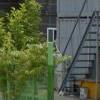stairs: (55, 20, 100, 97)
